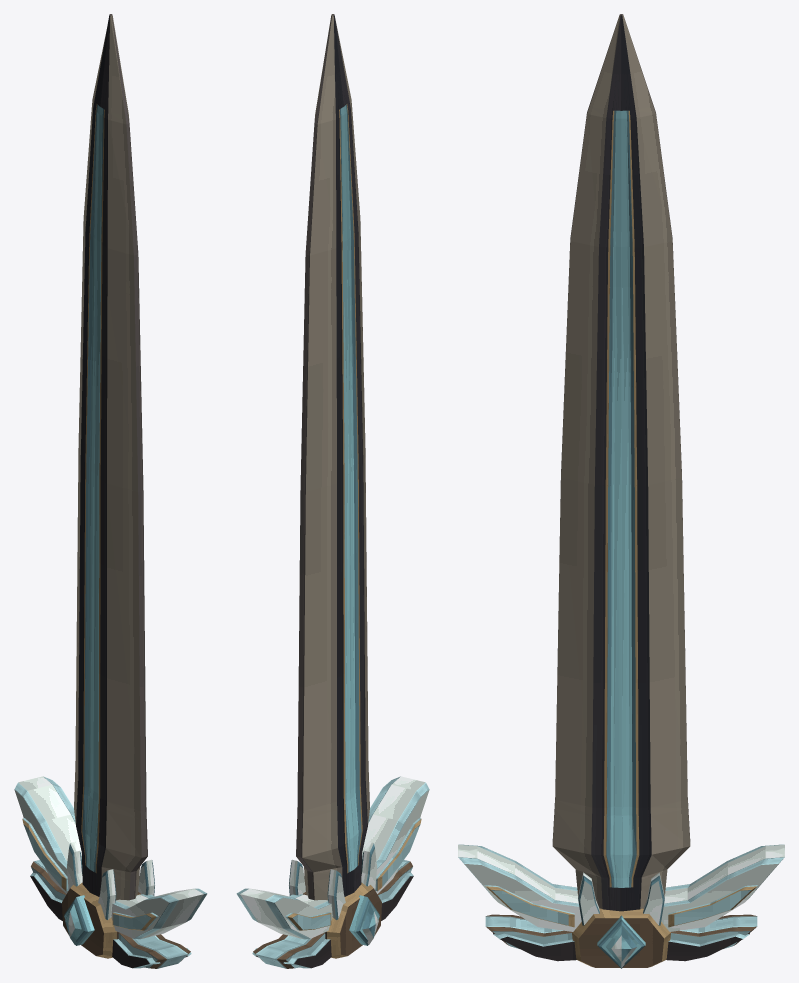
Rendered from workpiece_zhuji_baiqing_lingyun_sword_ground.obj.
3 views of the same model, side by side, from view 1: azimuth 30°, elevation 25°; view 2: azimuth 150°, elevation 25°; view 3: azimuth 270°, elevation 25° (orthographic).
Parts seen in each view (by area): view 1: geometry; view 2: geometry; view 3: geometry.
Boxes of the visible parts, <box> form: geometry: <box>14,14,207,968</box>; geometry: <box>236,14,429,968</box>; geometry: <box>458,14,784,968</box>.
Bounding box in the file's own units: 0.1199 × 1.25 × 0.3913.
